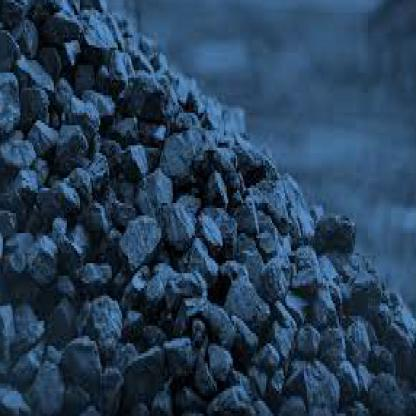Sedimentary_coal: (76, 291, 125, 353), (121, 208, 166, 268), (250, 168, 292, 228), (291, 358, 342, 404), (119, 70, 169, 115), (52, 115, 93, 168), (64, 328, 103, 381), (159, 133, 199, 180), (252, 250, 285, 296), (343, 271, 384, 308), (311, 213, 361, 243), (80, 18, 115, 60), (52, 228, 84, 271), (198, 200, 227, 245), (17, 298, 51, 336), (291, 250, 323, 290), (165, 333, 194, 371)
